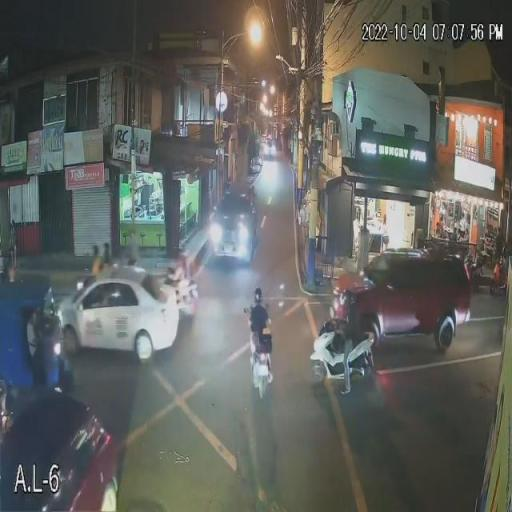helmet: (330, 288, 359, 314), (252, 285, 266, 305)
motorcycle: (308, 326, 380, 386), (249, 341, 280, 402)
rider: (339, 310, 355, 394), (248, 304, 276, 351)
